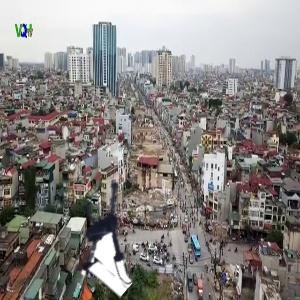drone: (54, 172, 165, 283)
